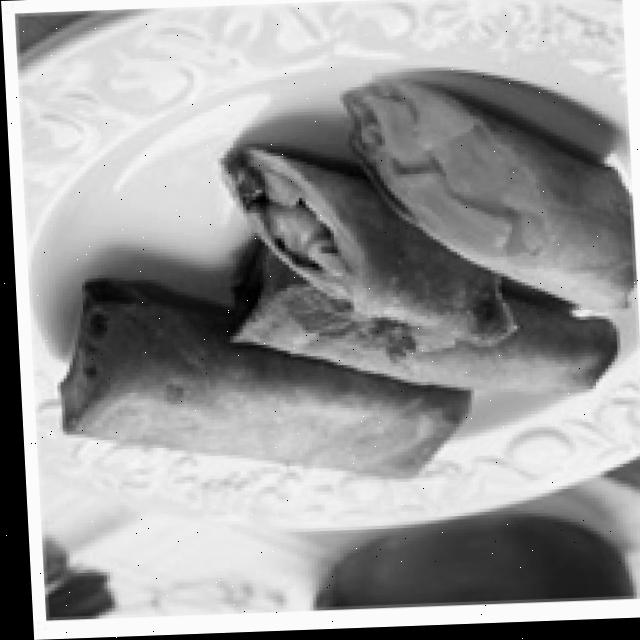鸡蛋料理: (27, 72, 617, 494)
